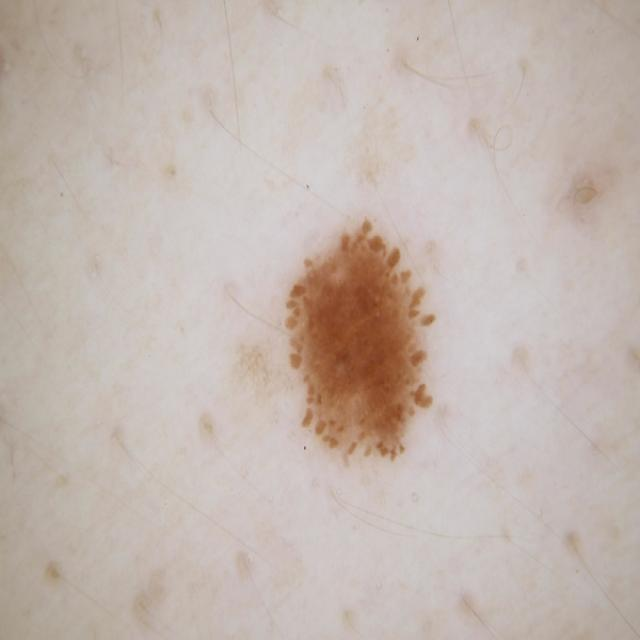NV: (283, 219, 433, 461)
